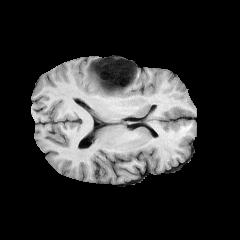glioma: (85, 57, 137, 95)
